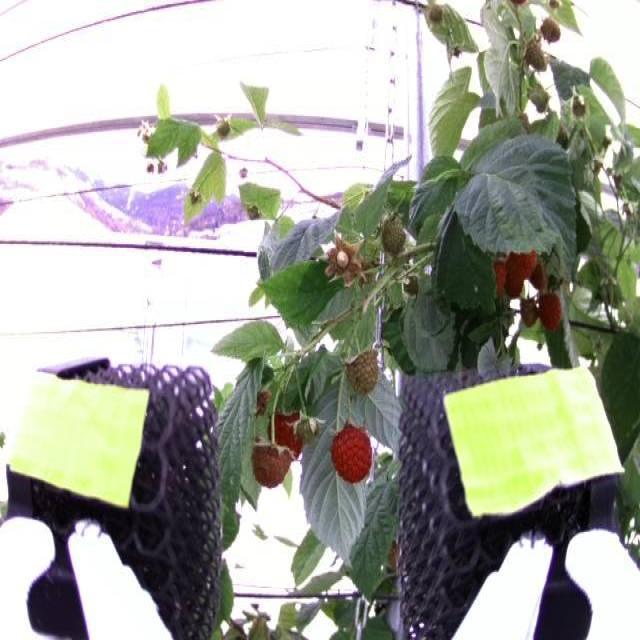Riped berries: (330, 421, 376, 482), (268, 405, 312, 453), (539, 288, 566, 332), (510, 246, 534, 295), (489, 256, 508, 299)
